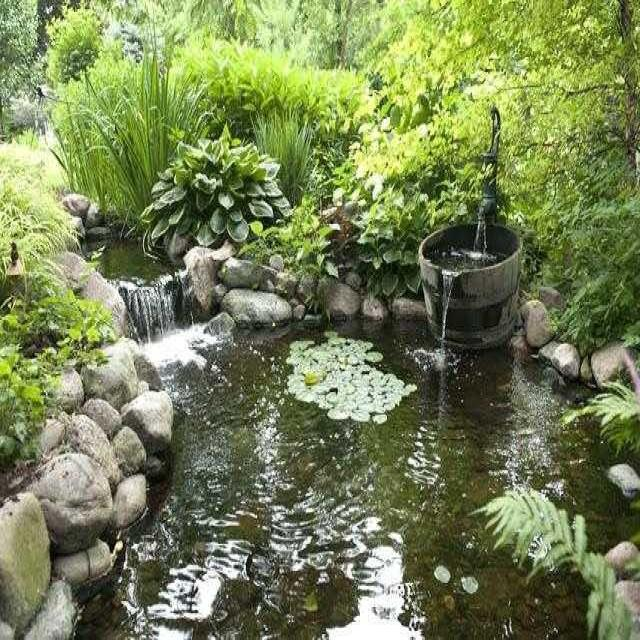Ponds: (1, 196, 640, 640)
